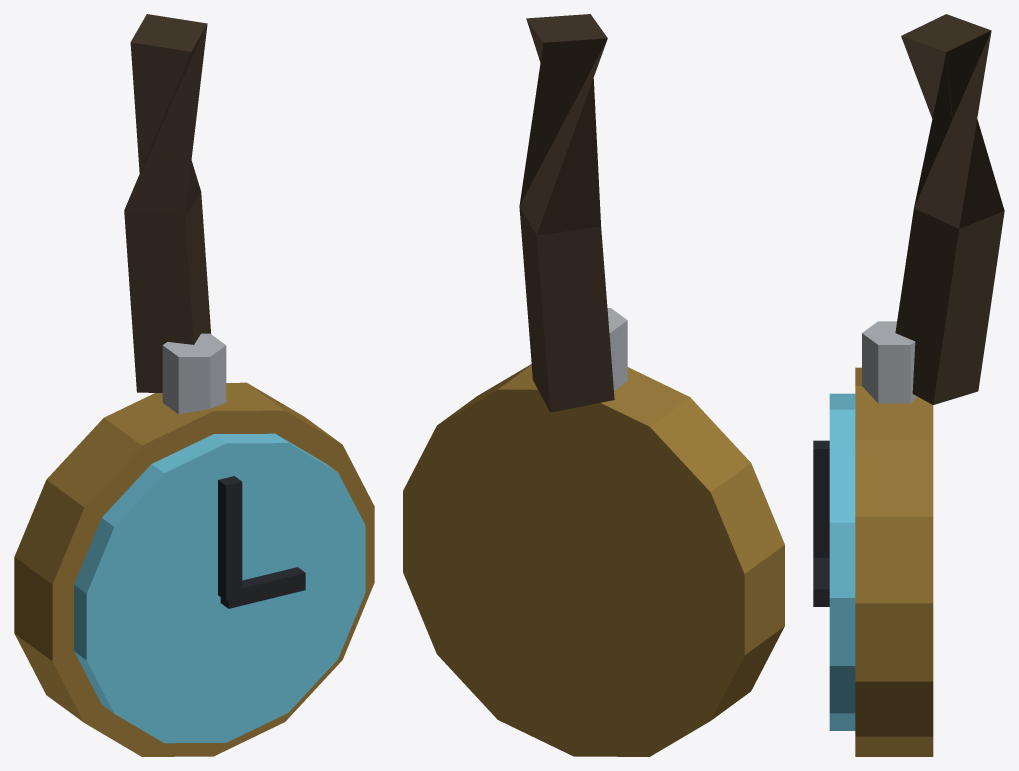
Rendered from chronometer.glb.
The picture shows the model from 3 angles, left to right: view 1: azimuth 30°, elevation 25°; view 2: azimuth 150°, elevation 25°; view 3: azimuth 270°, elevation 25°; orthographic projection. The views are drawn at different scales.
Parts seen in each view (by area): view 1: m; view 2: m; view 3: m.
Part boxes in pixels (x1=…): m: x1=14, y1=14, x2=374, y2=756; m: x1=403, y1=14, x2=784, y2=756; m: x1=813, y1=14, x2=1004, y2=756.
Bounding box in the file's own units: 0.0631 × 0.13 × 0.0318.
